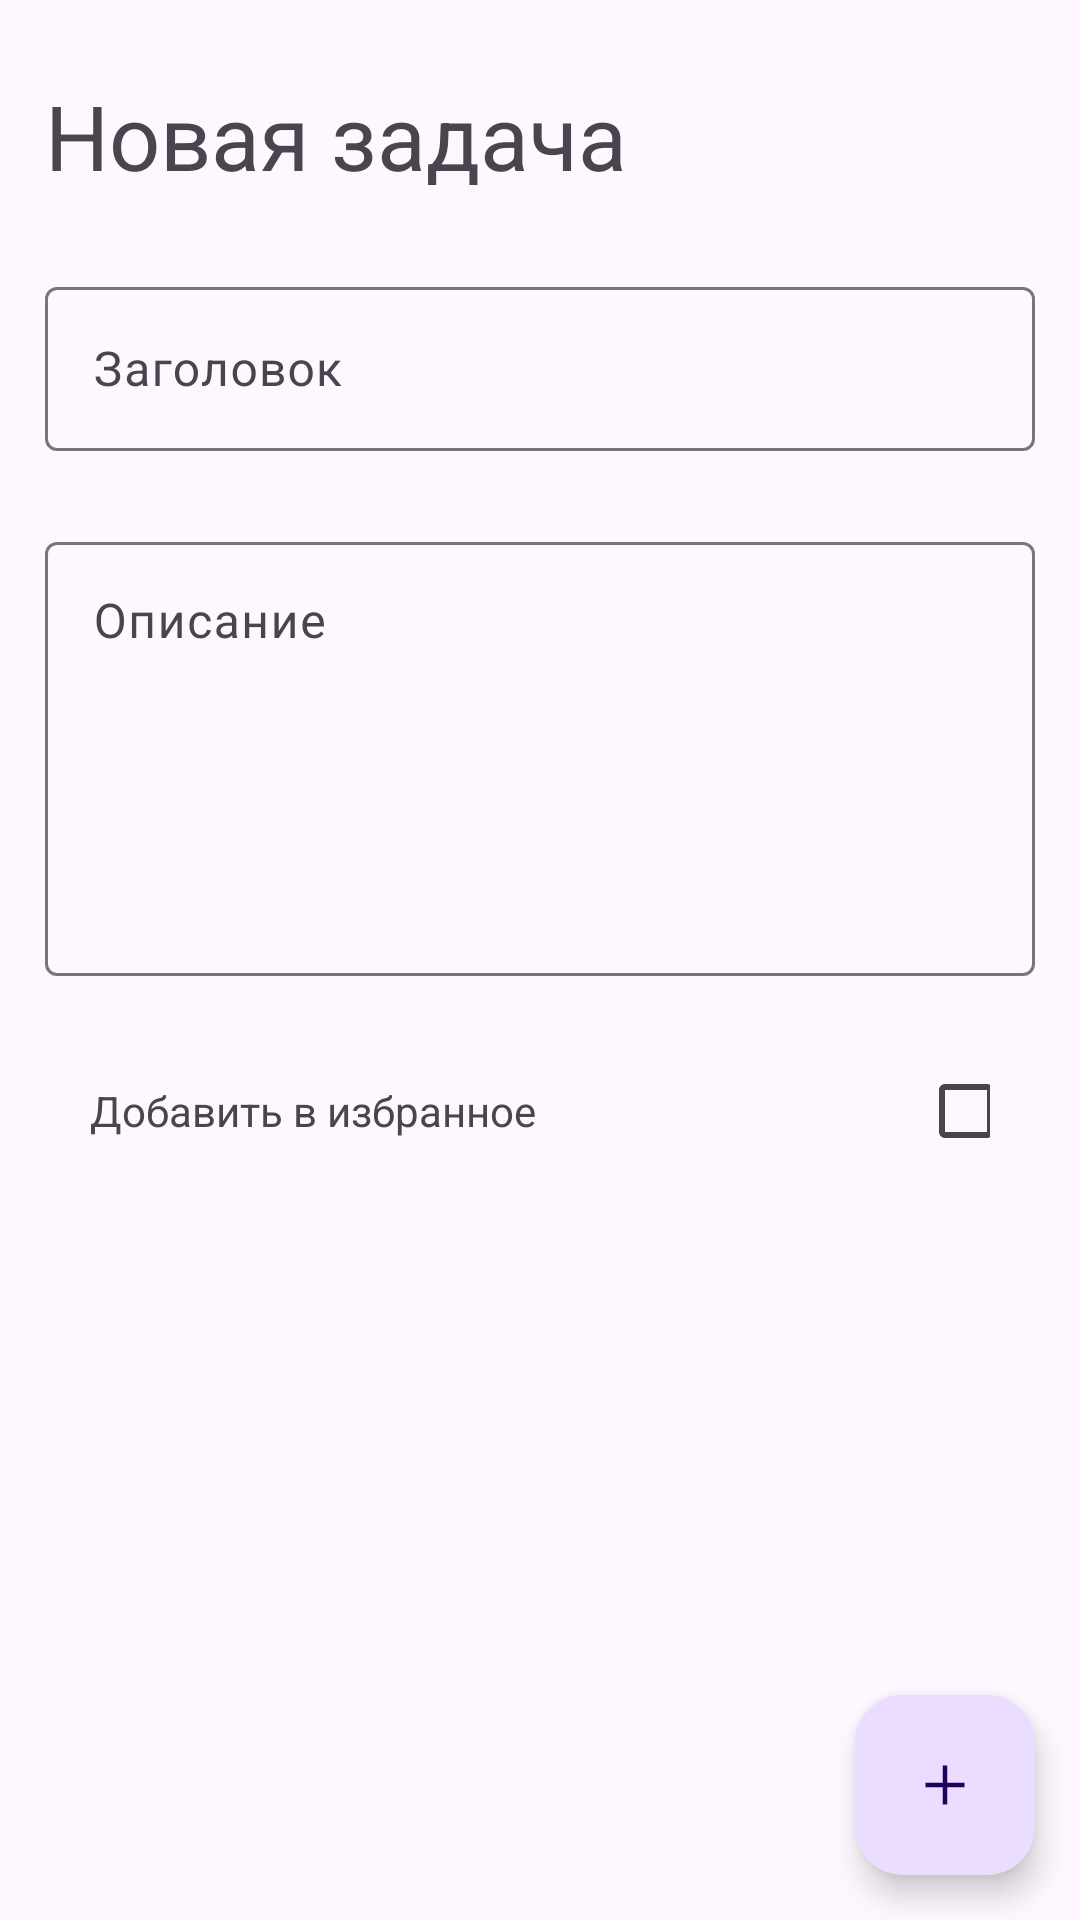

Icon click points for this 1080 x 1920 phone screenshot, format (x=x, y=y):
plus: (x=945, y=1785)
